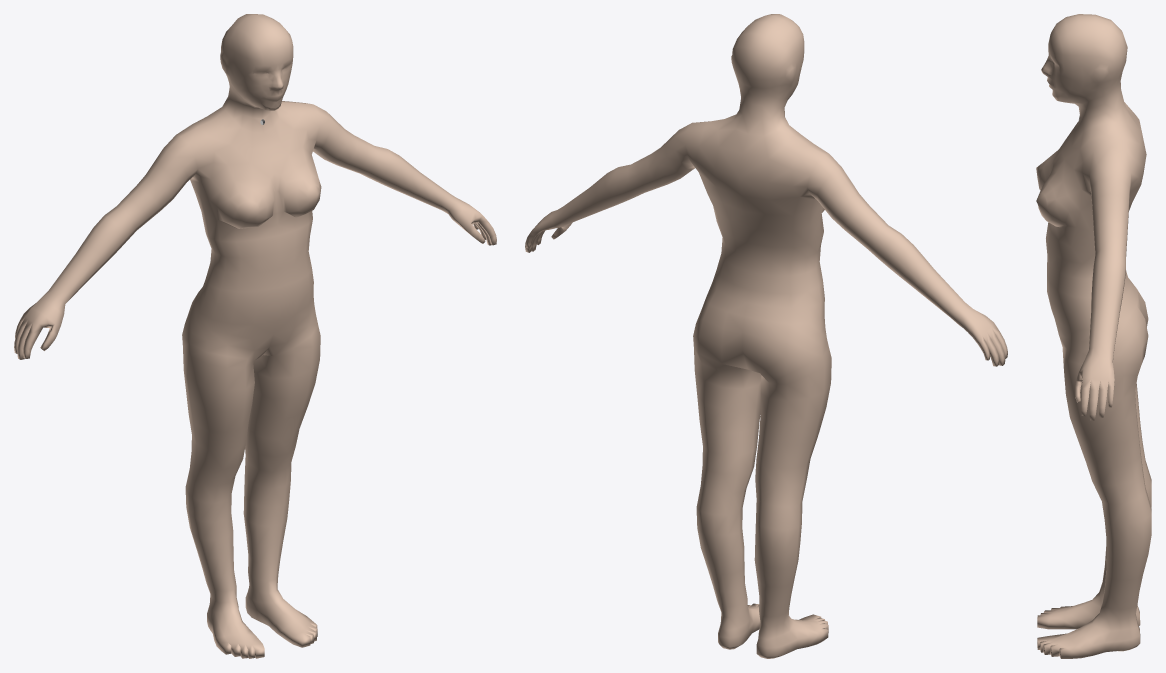
File: patient_export.fbx
The picture shows the model from 3 angles, left to right: view 1: azimuth 30°, elevation 25°; view 2: azimuth 150°, elevation 25°; view 3: azimuth 270°, elevation 25°; orthographic projection.
Parts seen in each view (by area): view 1: woman1; view 2: woman1; view 3: woman1.
Boxes of the visible parts, <box> form: woman1: <box>14,14,496,658</box>; woman1: <box>525,14,1007,658</box>; woman1: <box>1036,14,1151,658</box>.
Size of the model in its own units: 11.35 by 14.16 by 2.38.
